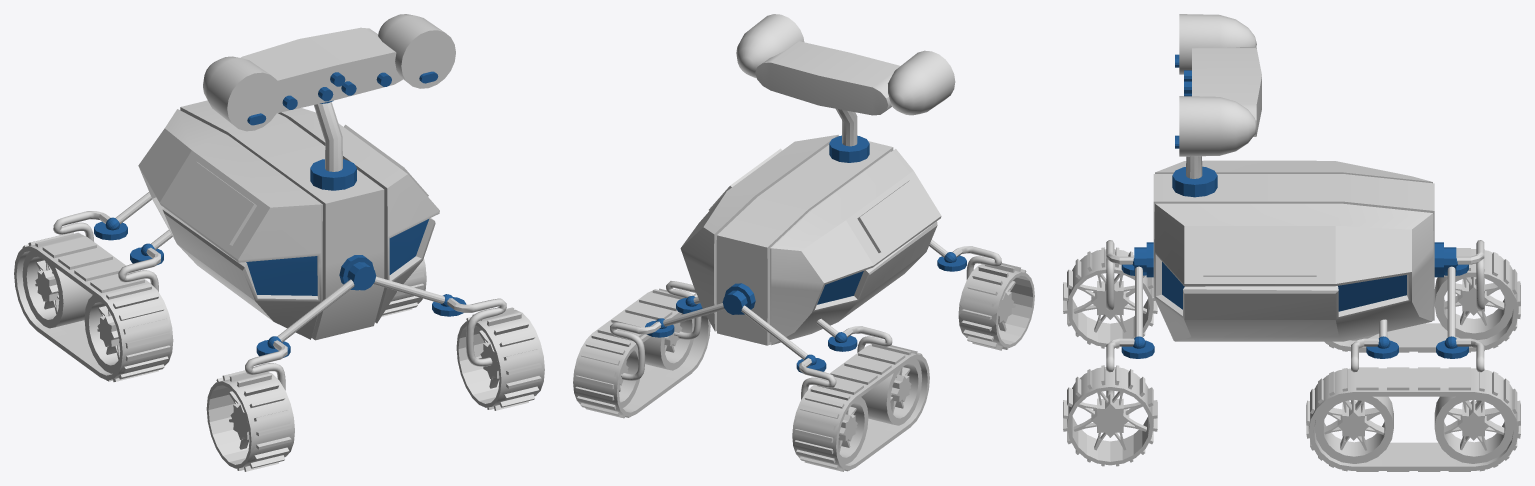
File: Robot.fbx
3 views of the same model, side by side, from view 1: azimuth 30°, elevation 25°; view 2: azimuth 150°, elevation 25°; view 3: azimuth 270°, elevation 25° (orthographic). The views are drawn at different scales.
Visible parts, largest first — view 1: polySurface105; view 2: polySurface105; view 3: polySurface105.
Boxes of the visible parts, x1,y1,x2,y2 form: polySurface105: [14, 14, 544, 471]; polySurface105: [573, 14, 1034, 471]; polySurface105: [1063, 14, 1520, 471].
Size of the model in its own units: 5.4 by 6.05 by 7.29.
